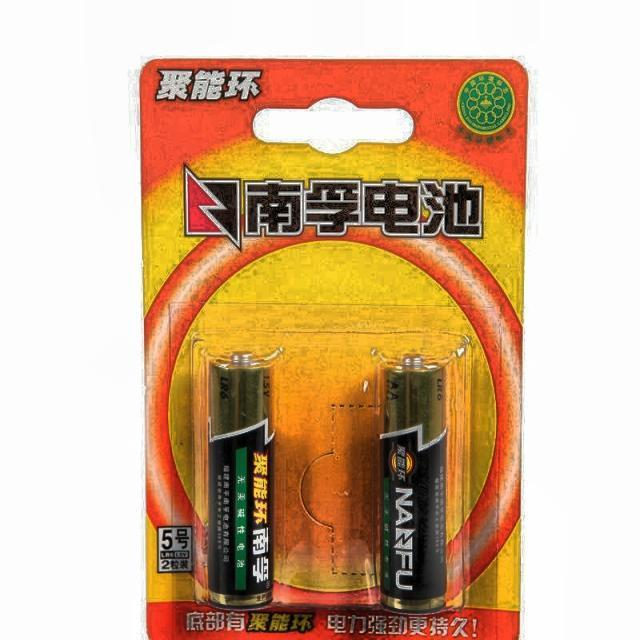battery: (202, 353, 274, 606), (380, 356, 449, 611)
